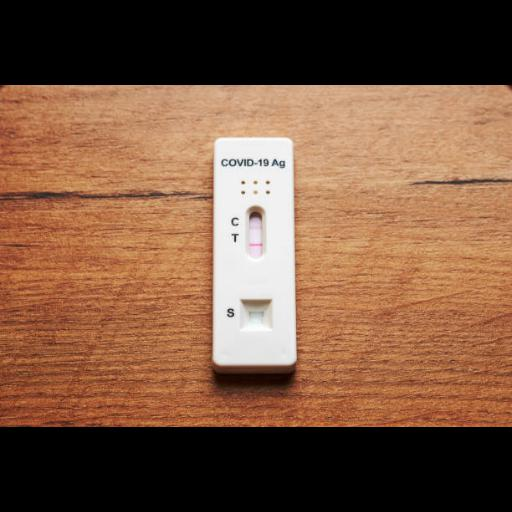Pos: (214, 134, 294, 364)
